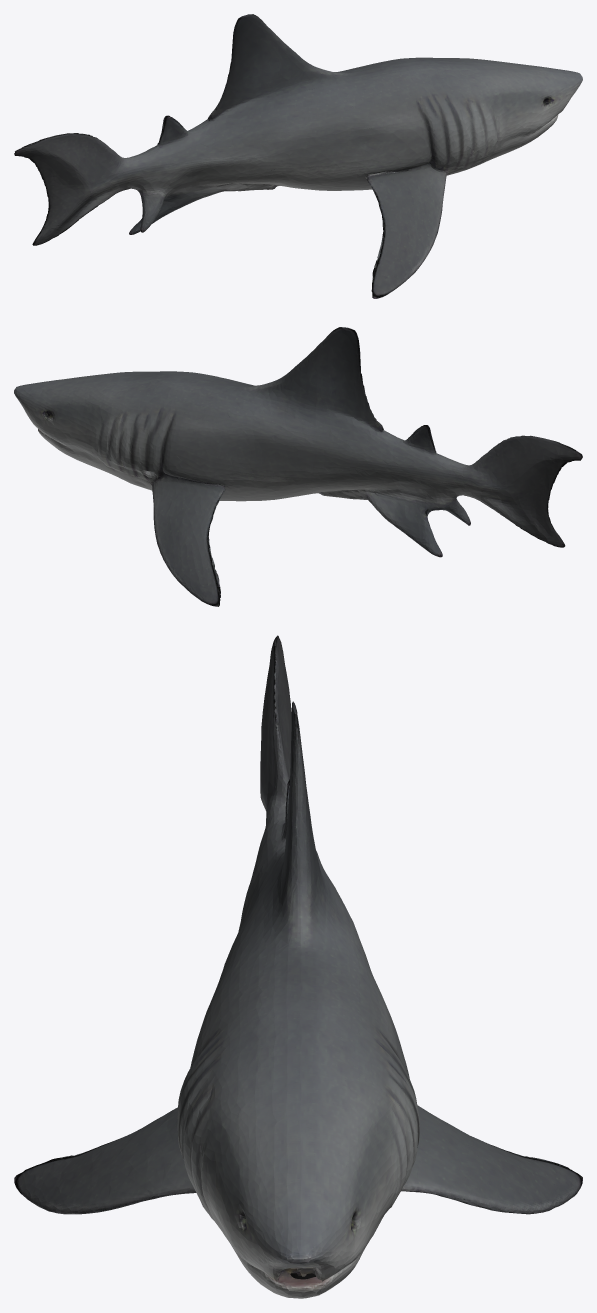
3 views of the same model, one above another, from view 1: azimuth 30°, elevation 25°; view 2: azimuth 150°, elevation 25°; view 3: azimuth 270°, elevation 25° (orthographic). The views are drawn at different scales.
Parts seen in each view (by area): view 1: world; view 2: world; view 3: world.
Part boxes in pixels (box(x1,y1,x2,y2)): world: box(14, 14, 582, 298); world: box(14, 327, 582, 606); world: box(14, 635, 582, 1298).
Bounding box in the file's own units: 1 × 0.4006 × 0.4801.
1 material, 1 textured.
